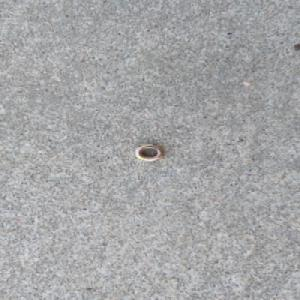Nut: (133, 143, 165, 162)
